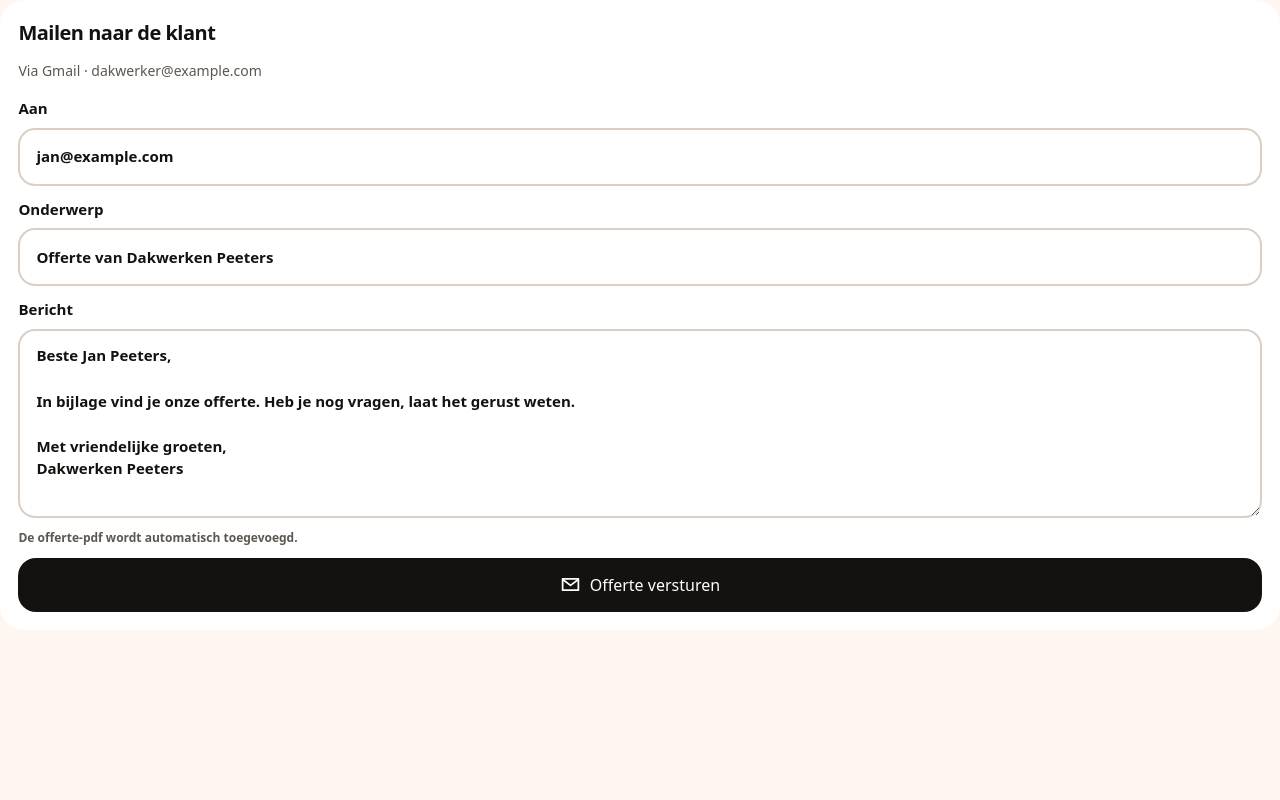
it: EmailQuoteForm › shows the provider error returned by the server
Click the button "Offerte versturen": (640, 585) left=18, top=558, right=1262, bottom=612
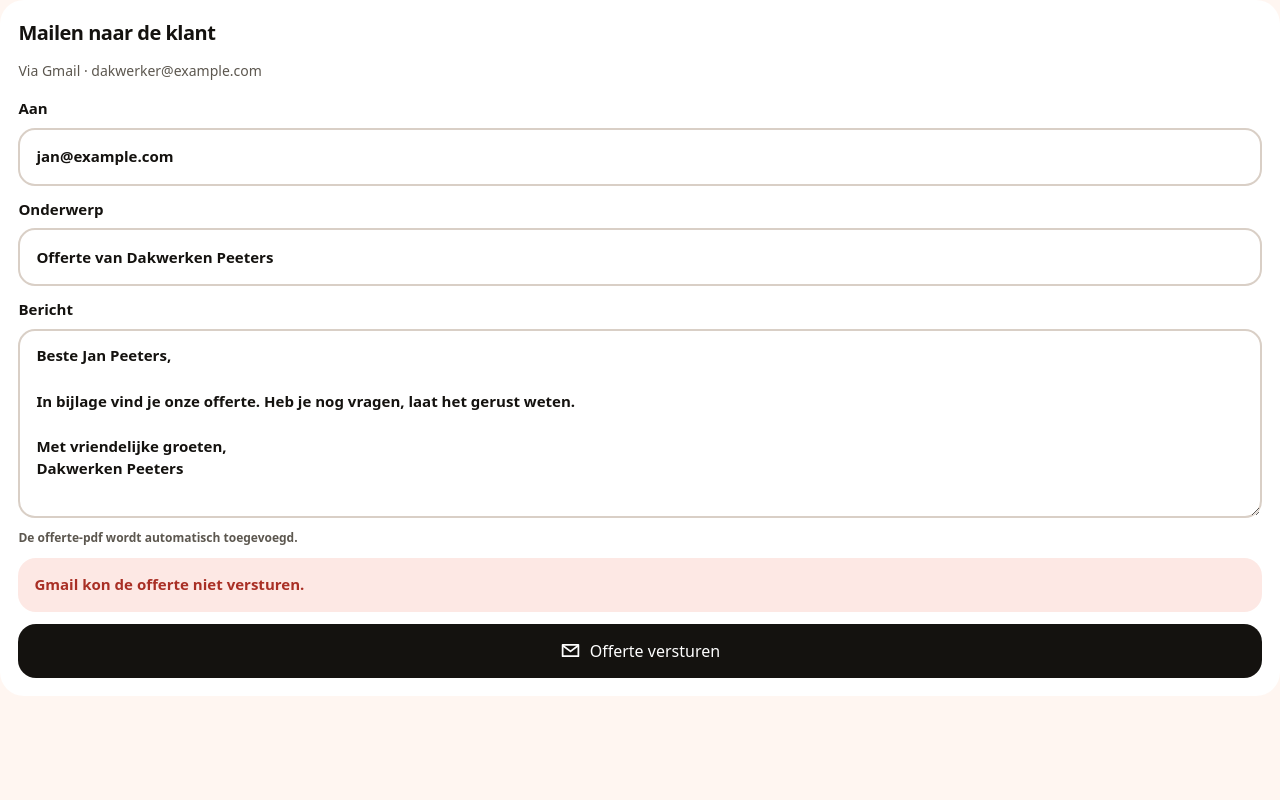
Now the message reads "Gmail kon de offerte niet versturen.", box left=34, top=574, right=304, bottom=594
